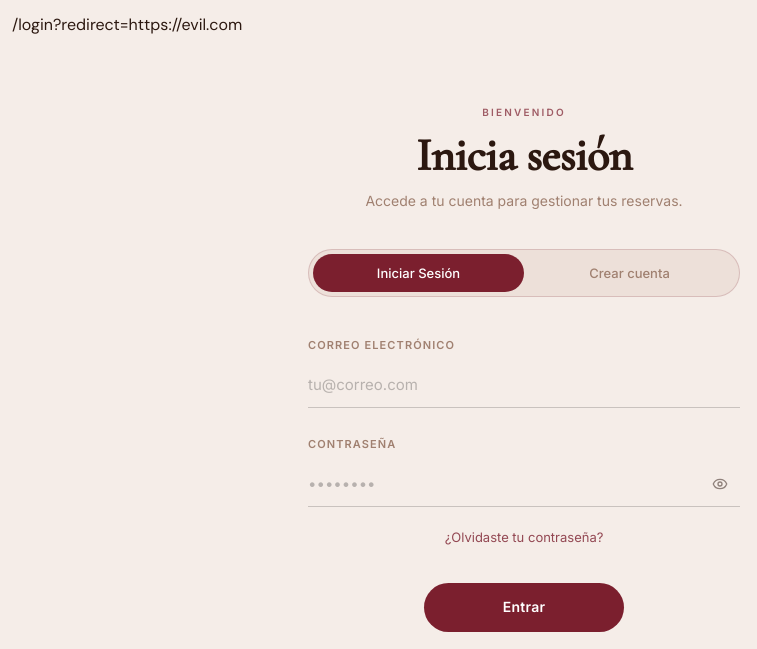
Test case: Login redirect flow › rechaza redirect externo
The image size is (757, 649).
Type "cliente@casascarlatta.local" into the field labelled "Correo electrónico" at (524, 386), box [308, 363, 740, 408]
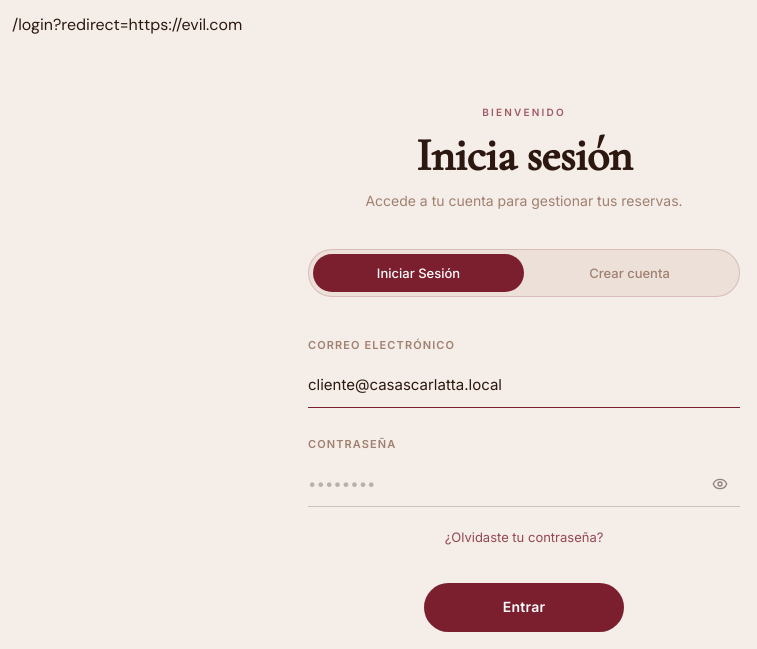
Type "cliente999" into the password field labelled "Contraseña" at (524, 484), box [308, 462, 740, 507]
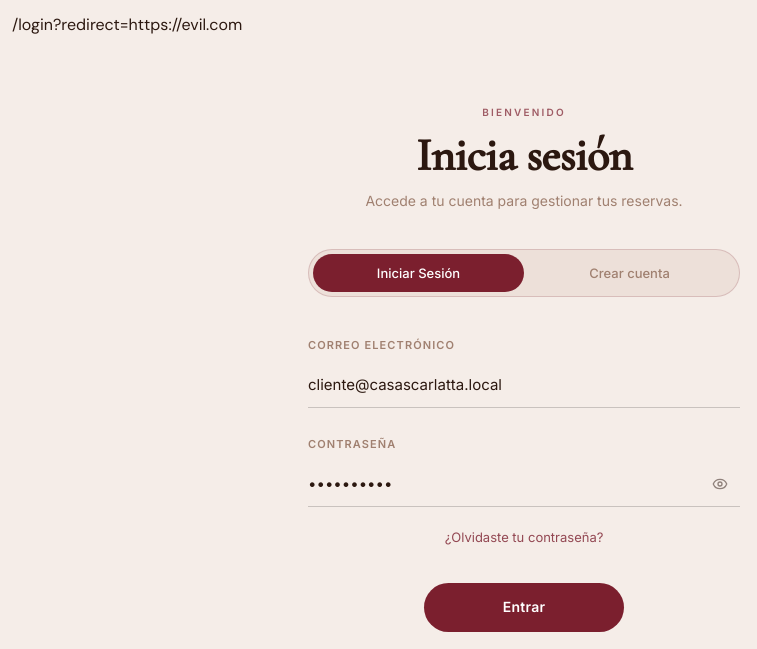
Click the button "Entrar" at (524, 608), box [424, 583, 624, 632]
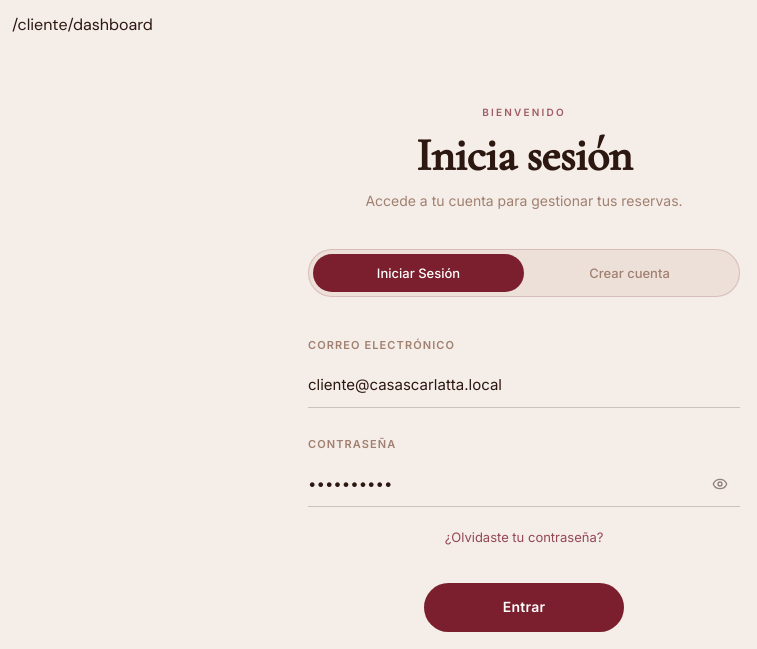
Now the text with test id "location" reads "/cliente/dashboard", box [12, 14, 153, 35]
Now the text with test id "location" no longer shows "evil.com", box [12, 14, 153, 35]
